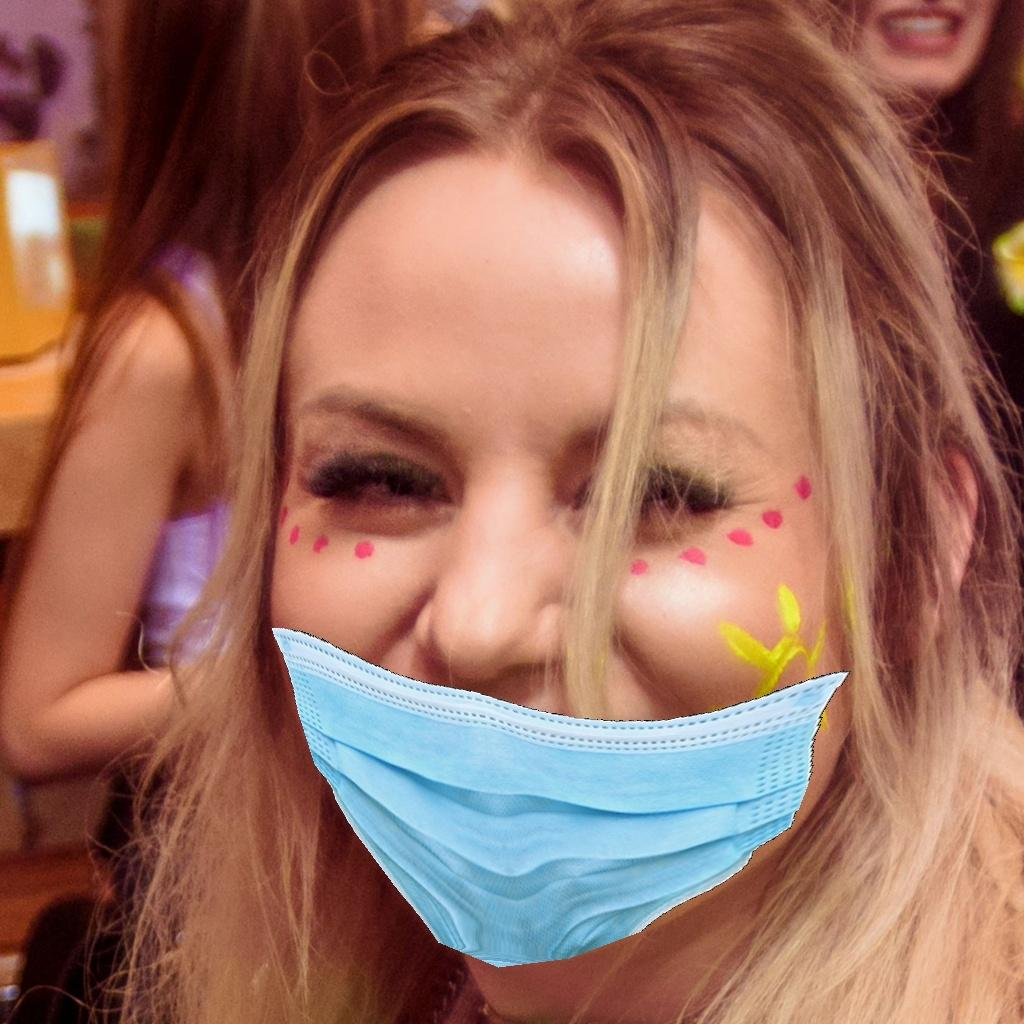Máscara Incorreta: (264, 324, 840, 949)
